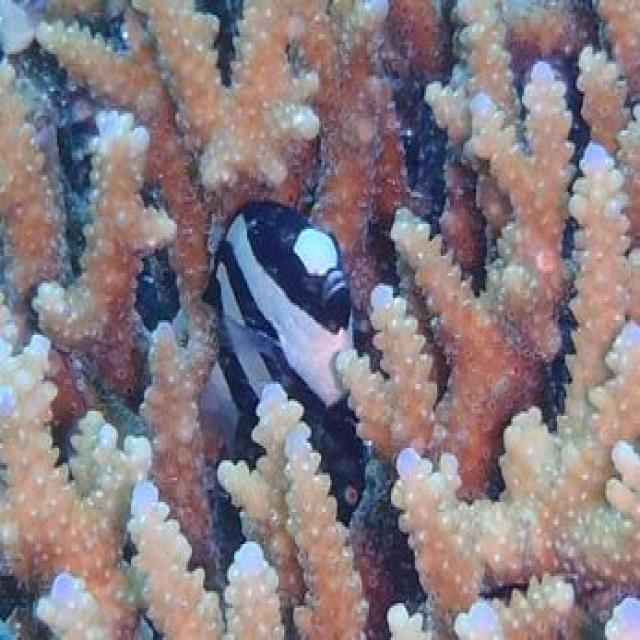Three_striped DasmselFish: (193, 203, 363, 430)
